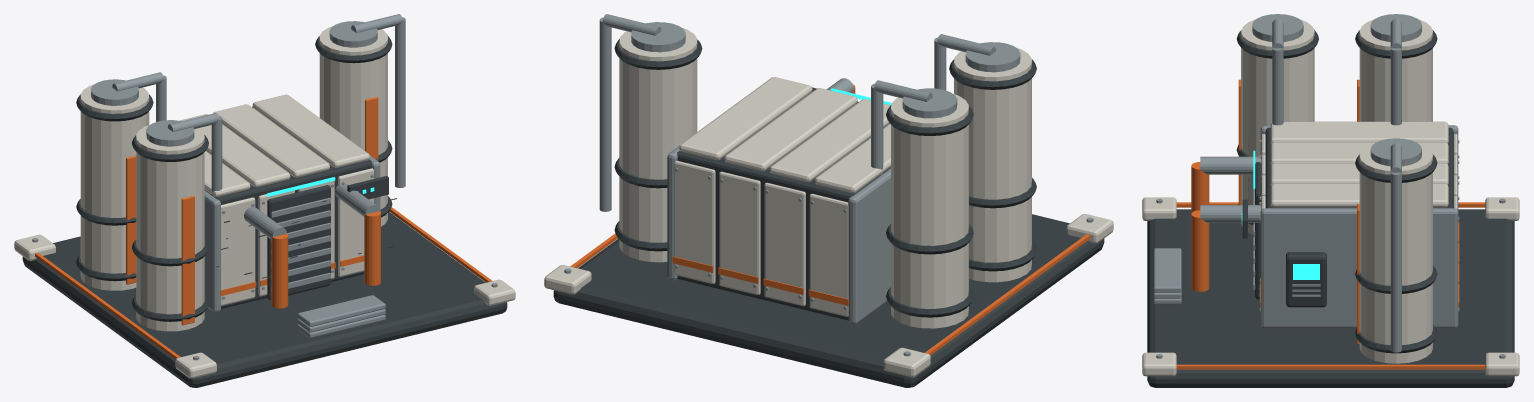
Rendered from SM_RefuelingStation_Body.fbx.
3 views of the same model, side by side, from view 1: azimuth 30°, elevation 25°; view 2: azimuth 150°, elevation 25°; view 3: azimuth 270°, elevation 25° (orthographic). The views are drawn at different scales.
Parts seen in each view (by area): view 1: SM_RefuelingStation_Body; view 2: SM_RefuelingStation_Body; view 3: SM_RefuelingStation_Body.
Boxes of the visible parts, x1,y1,x2,y2 form: SM_RefuelingStation_Body: (14, 14, 515, 387); SM_RefuelingStation_Body: (544, 14, 1113, 387); SM_RefuelingStation_Body: (1142, 14, 1519, 387).
Size of the model in its own units: 503 by 462 by 307.
